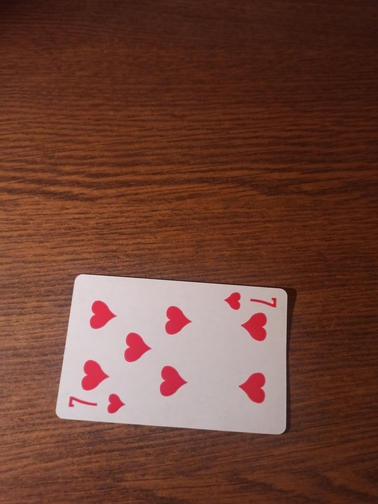sevenhearts: (55, 274, 289, 435)
